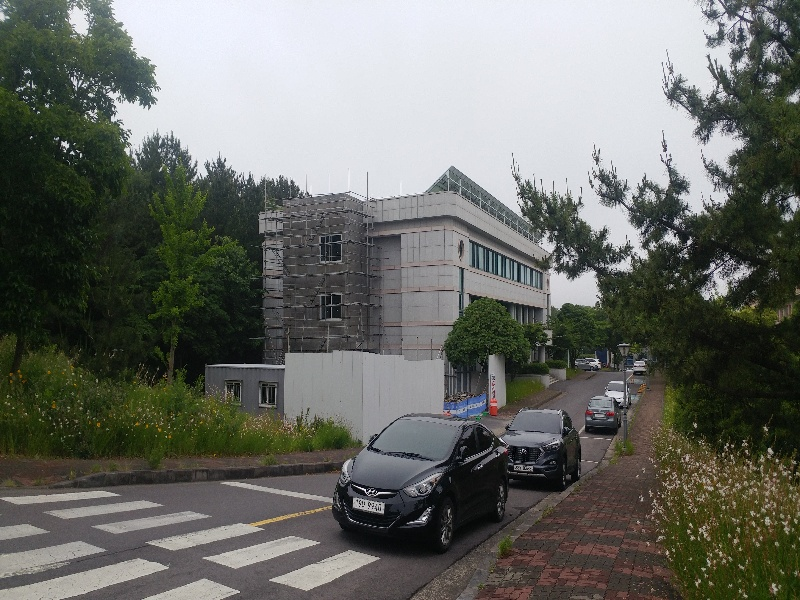Information Telecommunication Center: (252, 153, 570, 353), (375, 163, 554, 358), (389, 198, 552, 351)
